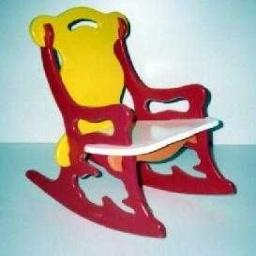Chair: (25, 6, 237, 239)
